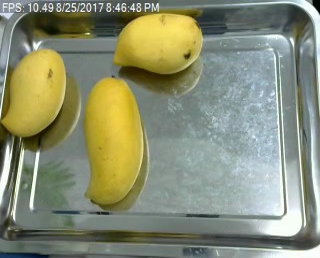Mango: (81, 76, 149, 207), (0, 46, 67, 135), (113, 10, 202, 77)
